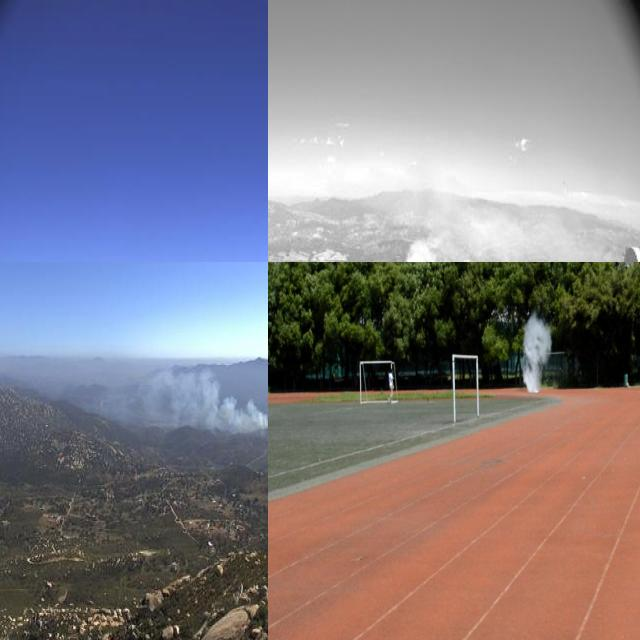smoke: (64, 342, 268, 438), (338, 185, 562, 262), (519, 311, 553, 394)
